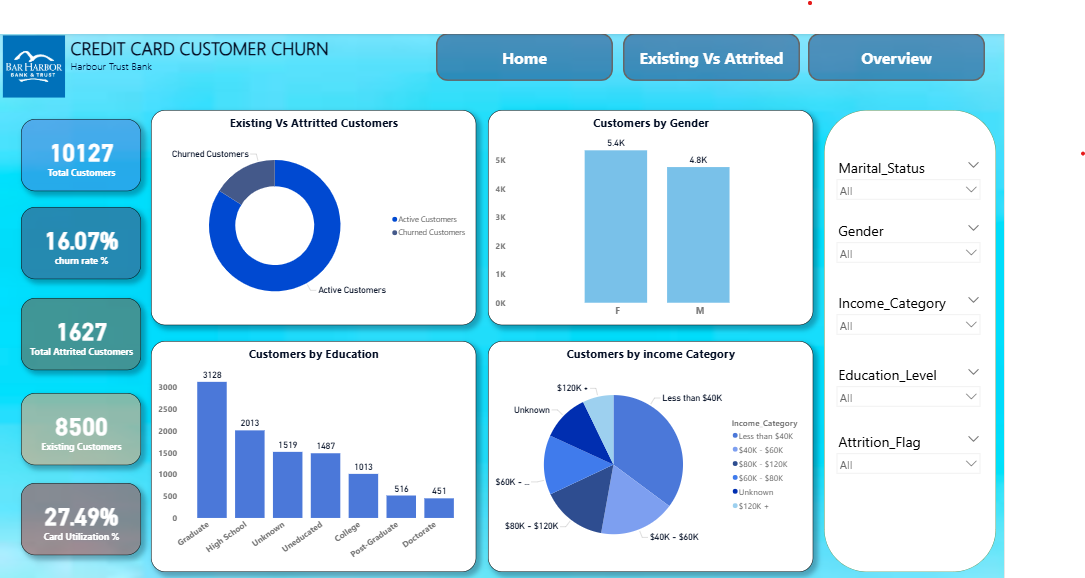

What the dashboard file says about the page in this screenshot:
{"tool":"powerbi","page":{"name":"Page 1","canvas":[2100,1150],"ordinal":3},"visuals":[{"type":"image","box":[0,0,141.8,140.4],"z":0},{"type":"textbox","box":[141.9,0,608.1,96.8],"z":1000},{"type":"card","fields":{"Values":["Measure Table.Total Customers"]},"box":[43.9,179.8,250.9,150.5],"z":2000},{"type":"card","fields":{"Values":["Measure Table.churn rate(%)"]},"box":[43.9,363.8,250.9,150.5],"z":3000},{"type":"card","fields":{"Values":["Measure Table.Churned Customers"]},"box":[43.9,554.1,250.9,150.5],"z":4000},{"type":"card","fields":{"Values":["Measure Table.Active Customers"]},"box":[43.9,752.7,250.9,150.5],"z":5000},{"type":"card","fields":{"Values":["Avg(BankChurners.Avg_Utilization_Ratio)"]},"box":[43.9,940.9,250.9,150.5],"z":6000},{"type":"donutChart","title":"Existing Vs Attritted Customers","fields":{"Y":["Measure Table.Active Customers","Measure Table.Churned Customers"]},"box":[315.7,161,679.5,449.5],"z":7000},{"type":"clusteredColumnChart","title":"Customers by Gender","fields":{"Category":["BankChurners.Gender"],"Y":["Measure Table.Total Customers"]},"box":[1019.6,160.9,680.4,450],"z":8000},{"type":"pieChart","title":"Customers by income Category","fields":{"Category":["BankChurners.Income_Category"],"Y":["Measure Table.Total Customers"]},"box":[1020.4,644,679.5,483],"z":9000},{"type":"clusteredColumnChart","title":"Customers by Education","fields":{"Category":["BankChurners.Education_Level"],"Y":["Measure Table.Total Customers"]},"box":[315.7,644,679.5,483],"z":10000},{"type":"shape","box":[1722.1,160.7,359.8,966.3],"z":11000},{"type":"slicer","fields":{"Values":["BankChurners.Marital_Status"]},"box":[1740.2,255.1,319.6,150.4],"z":12000},{"type":"slicer","fields":{"Values":["BankChurners.Gender"]},"box":[1740.2,386.7,319.6,150.4],"z":13000},{"type":"slicer","fields":{"Values":["BankChurners.Income_Category"]},"box":[1740.2,537.1,319.6,150.4],"z":14000},{"type":"slicer","fields":{"Values":["BankChurners.Education_Level"]},"box":[1740.2,687.5,319.6,150.4],"z":15000},{"type":"slicer","fields":{"Values":["BankChurners.Attrition_Flag"]},"box":[1740.2,827.1,319.6,150.4],"z":16000},{"type":"actionButton","box":[911.6,0,370.1,100.4],"z":17000},{"type":"actionButton","box":[1302.6,0,370.1,100.4],"z":18000},{"type":"actionButton","box":[1689.5,0,370.1,100.4],"z":19000}]}

Visuals, with their boxes in screenshot pixels (x1, y1, x2, y2), scaled from the page's 2100x1150 canvas onto the 1085x578 screenshot:
image: [x1=0, y1=0, x2=73, y2=71]
textbox: [x1=73, y1=0, x2=388, y2=49]
card - Measure Table.Total Customers: [x1=23, y1=90, x2=152, y2=166]
card - Measure Table.churn rate(%): [x1=23, y1=183, x2=152, y2=258]
card - Measure Table.Churned Customers: [x1=23, y1=278, x2=152, y2=354]
card - Measure Table.Active Customers: [x1=23, y1=378, x2=152, y2=454]
card - Avg(BankChurners.Avg_Utilization_Ratio): [x1=23, y1=473, x2=152, y2=549]
"Existing Vs Attritted Customers" donutChart: [x1=163, y1=81, x2=514, y2=307]
"Customers by Gender" clusteredColumnChart: [x1=527, y1=81, x2=878, y2=307]
"Customers by income Category" pieChart: [x1=527, y1=324, x2=878, y2=566]
"Customers by Education" clusteredColumnChart: [x1=163, y1=324, x2=514, y2=566]
shape: [x1=890, y1=81, x2=1076, y2=566]
slicer - BankChurners.Marital_Status: [x1=899, y1=128, x2=1064, y2=204]
slicer - BankChurners.Gender: [x1=899, y1=194, x2=1064, y2=270]
slicer - BankChurners.Income_Category: [x1=899, y1=270, x2=1064, y2=346]
slicer - BankChurners.Education_Level: [x1=899, y1=346, x2=1064, y2=421]
slicer - BankChurners.Attrition_Flag: [x1=899, y1=416, x2=1064, y2=491]
actionButton: [x1=471, y1=0, x2=662, y2=50]
actionButton: [x1=673, y1=0, x2=864, y2=50]
actionButton: [x1=873, y1=0, x2=1064, y2=50]
